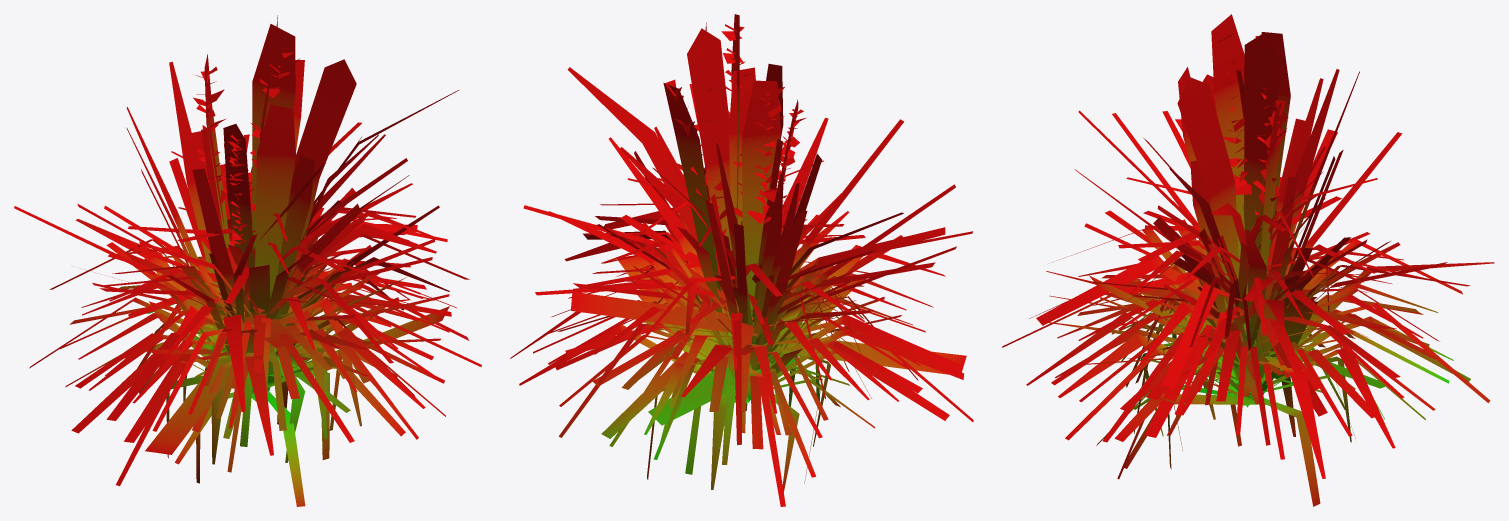
The model's file is Var2_LOD3.fbx.
3 views of the same model, side by side, from view 1: azimuth 30°, elevation 25°; view 2: azimuth 150°, elevation 25°; view 3: azimuth 270°, elevation 25° (orthographic). The views are drawn at different scales.
Visible parts, largest first — view 1: _53df_Var2_LOD3; view 2: _53df_Var2_LOD3; view 3: _53df_Var2_LOD3.
Part boxes in pixels (bbox=[...]): _53df_Var2_LOD3: bbox=[14, 15, 481, 506]; _53df_Var2_LOD3: bbox=[510, 14, 973, 506]; _53df_Var2_LOD3: bbox=[1002, 14, 1494, 506].
Bounding box in the file's own units: 46.05 × 49.9 × 47.69.
